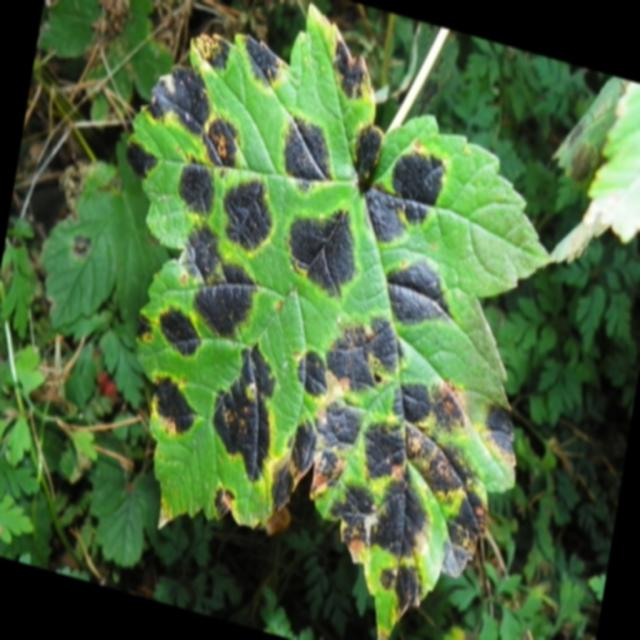Tar_Spot: (124, 6, 532, 637)
